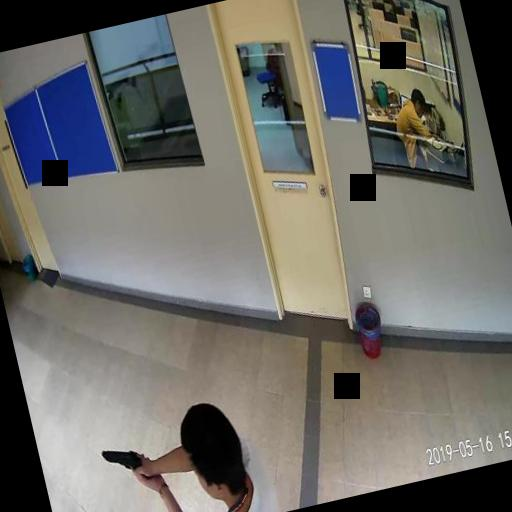Handgun: (101, 442, 149, 491)
